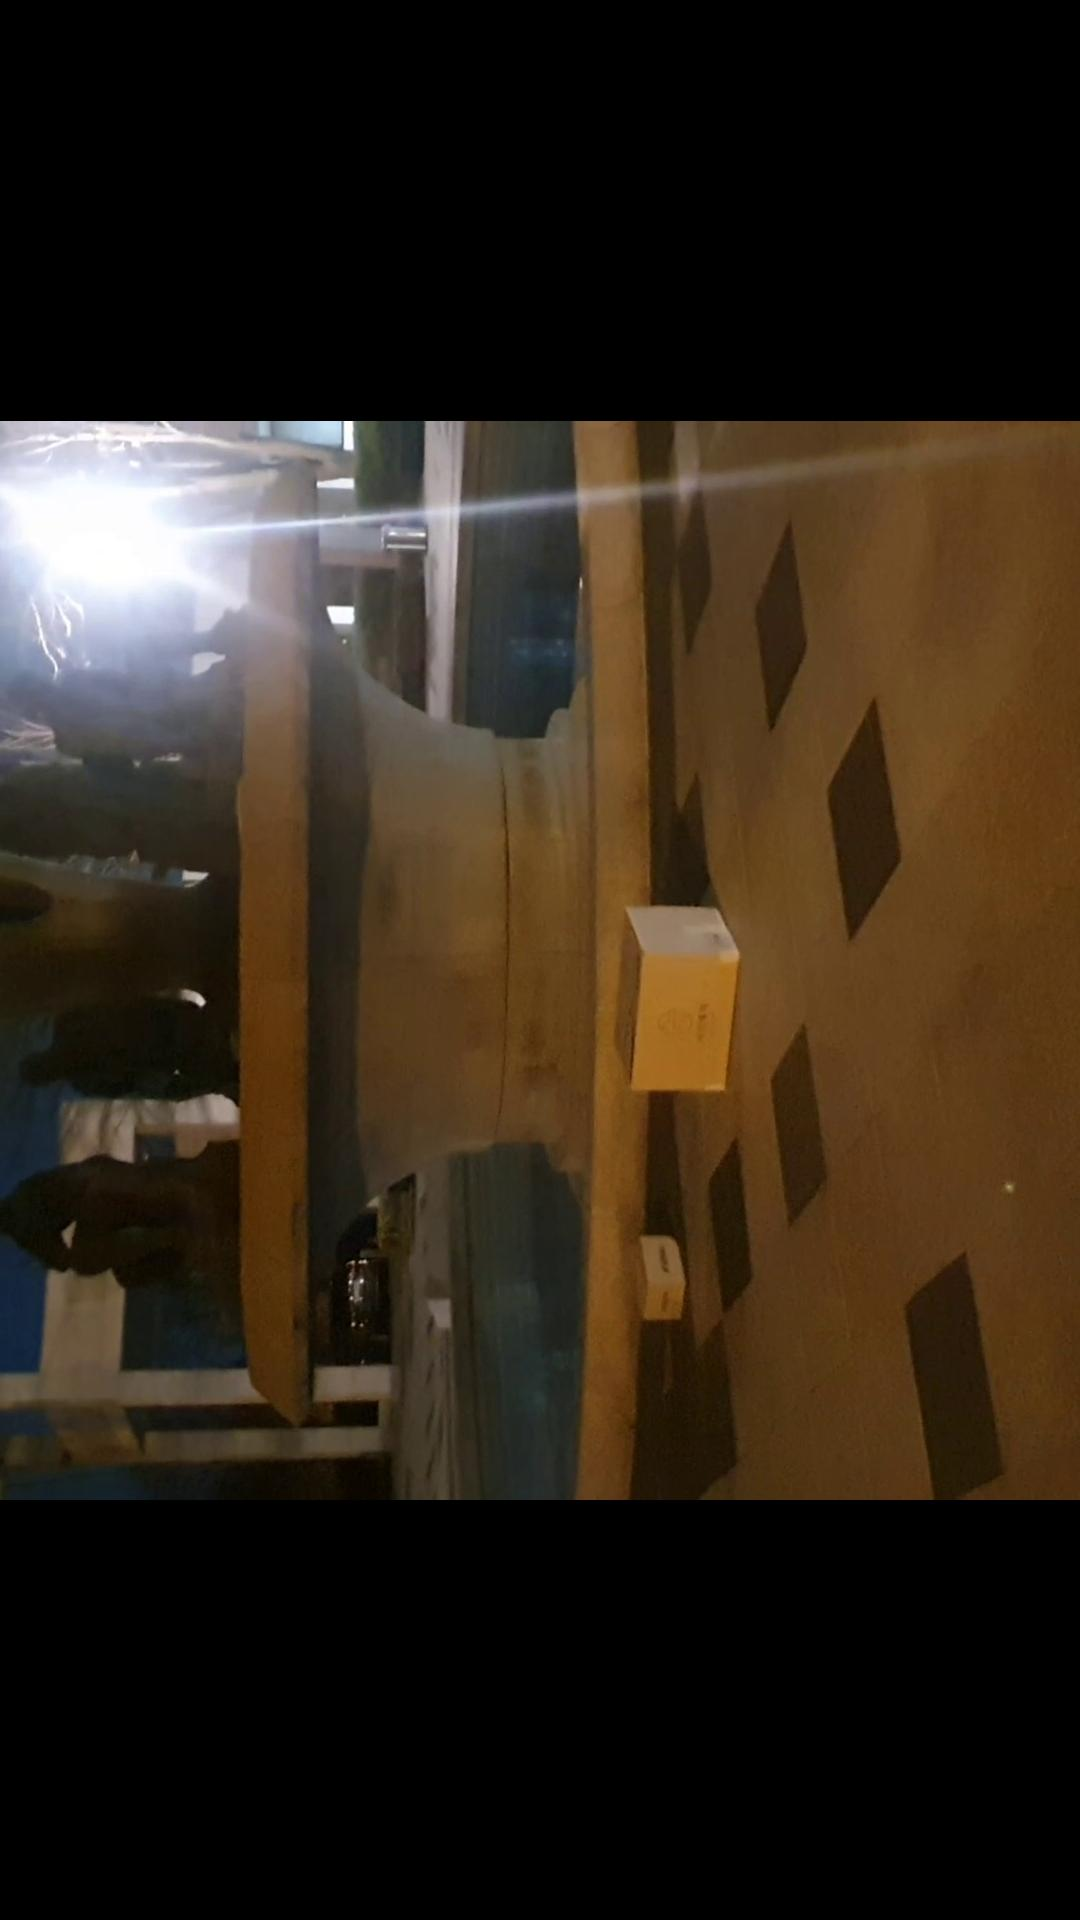Box: (603, 895, 745, 1106), (620, 1233, 690, 1327)
